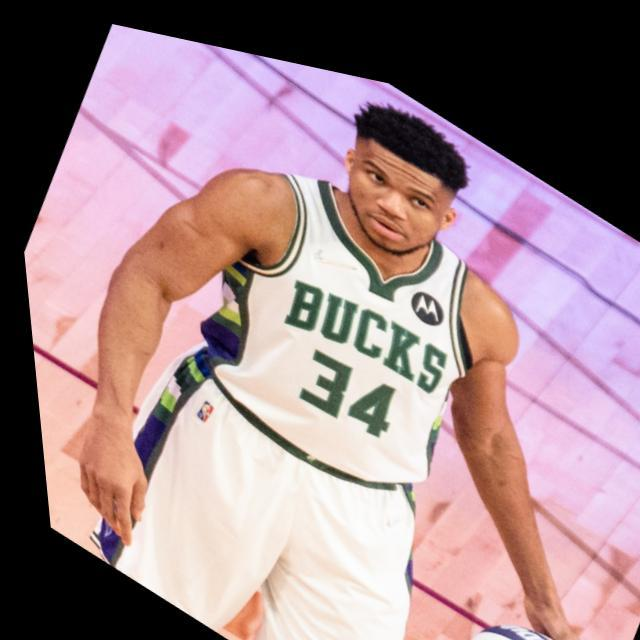Nonhelmet: (324, 93, 470, 266)
